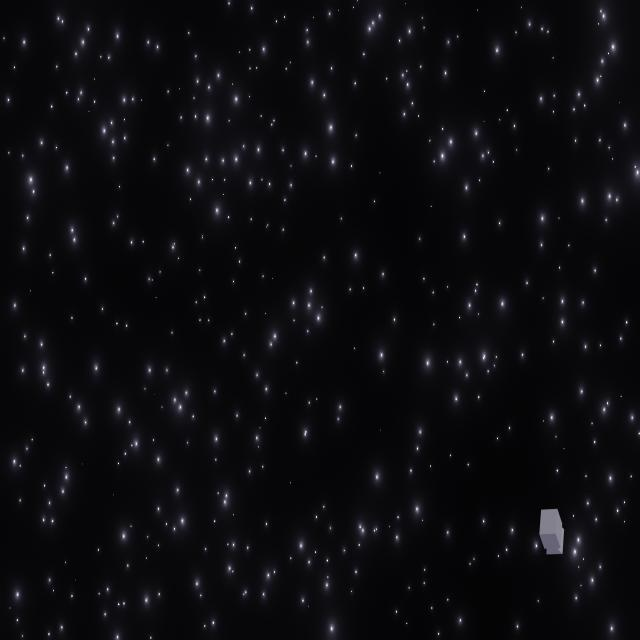large_debris: (537, 508, 568, 558)
